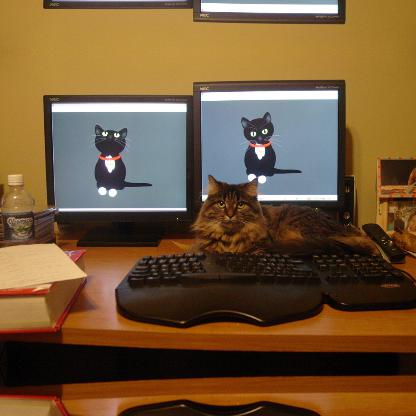Cat: (185, 174, 377, 254), (90, 124, 152, 198), (238, 112, 300, 184)
